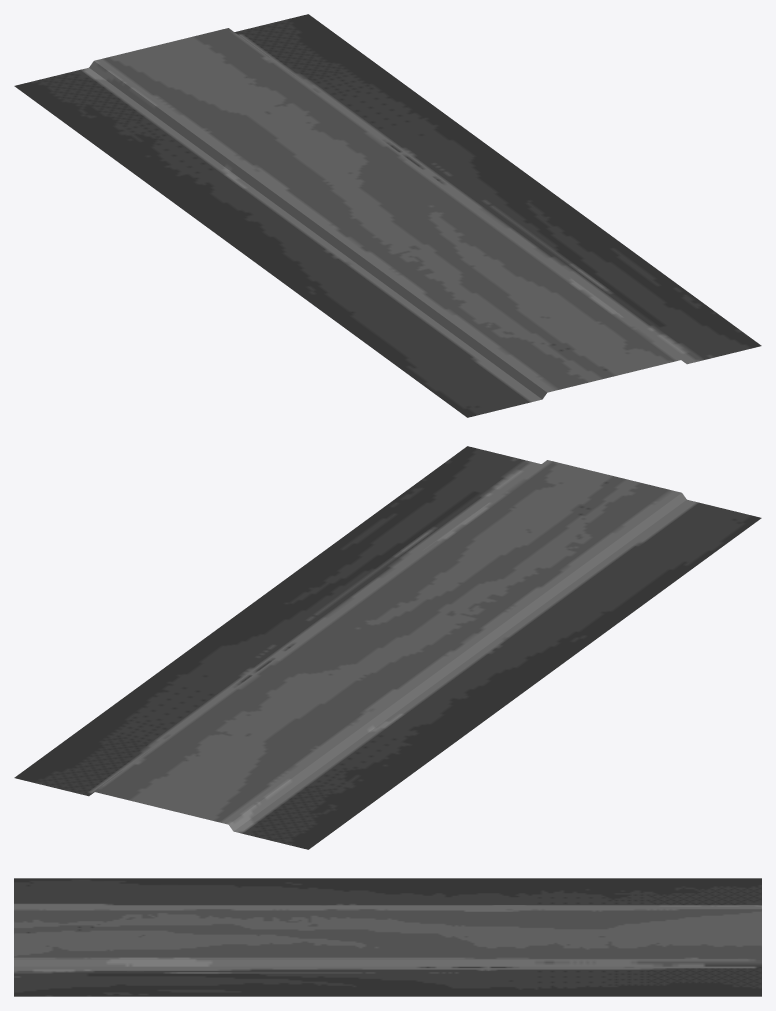
The model's file is Container_Ceiling.fbx.
3 views of the same model, one above another, from view 1: azimuth 30°, elevation 25°; view 2: azimuth 150°, elevation 25°; view 3: azimuth 270°, elevation 25° (orthographic). The views are drawn at different scales.
Visible parts, largest first — view 1: Plane.004; view 2: Plane.004; view 3: Plane.004.
Boxes of the visible parts, x1=… form: Plane.004: x1=14, y1=14, x2=761, y2=417; Plane.004: x1=14, y1=446, x2=761, y2=849; Plane.004: x1=14, y1=878, x2=761, y2=996.
Size of the model in its own units: 600 by 11.07 by 1600.
Materials: 1 (1 with a texture image).
